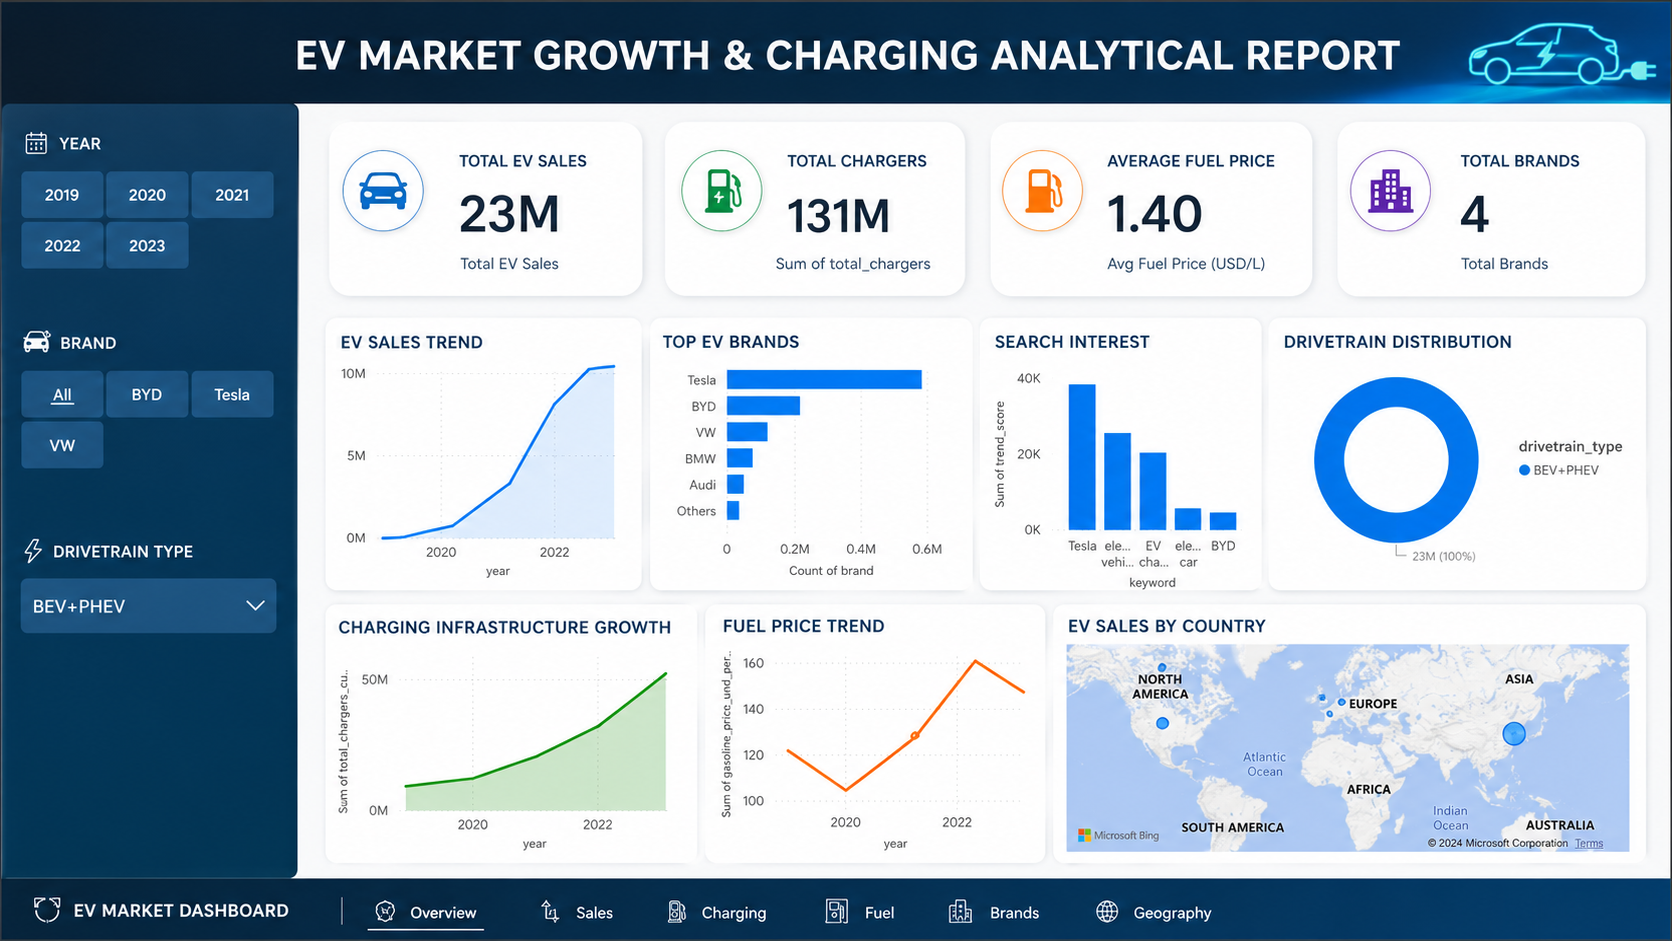

The page's visual inventory and layout, read from the dashboard file:
{"tool":"powerbi","page":{"name":"Page 1","canvas":[1280,720],"ordinal":0},"visuals":[{"type":"shape","box":[0,0,1280.5,85.6],"z":0},{"type":"shape","box":[0,85.8,309.6,634.7],"z":1000},{"type":"cardVisual","title":"Total EV Sales","fields":{"Data":["ev_charging_monthly.Total EV Sales"]},"box":[327.9,87.2,223.8,133.7],"z":2000},{"type":"cardVisual","title":"Total Chargers ","fields":{"Data":["Sum(ev_charging_monthly.total_chargers_cumulative)"]},"box":[569.9,85.8,225.2,133.7],"z":3000},{"type":"cardVisual","title":"Total Brands","fields":{"Data":["ev_market_master.Total Brands"]},"box":[1076.5,88.7,184.3,133.7],"z":4000},{"type":"cardVisual","title":"Average Fuel Price ","fields":{"Data":["fuel_prices_monthly.Avg Fuel Price"]},"box":[828.9,85.8,212.5,133.7],"z":5000},{"type":"advancedSlicerVisual","title":"Year","fields":{"Values":["ev_market_master.year"]},"box":[0,87.2,309.6,218.1],"z":6000},{"type":"advancedSlicerVisual","title":"Brand","fields":{"Values":["ev_market_master.brand"]},"box":[0,305.4,309.6,206.9],"z":7000},{"type":"advancedSlicerVisual","title":"Drivetrain_type","fields":{"Values":["ev_market_master.drivetrain_type"]},"box":[0,512.2,309.6,208.3],"z":8000},{"type":"lineChart","title":"EV Sales Trend","fields":{"Category":["ev_market_master.year"],"Y":["Sum(ev_market_master.units_sold)"]},"box":[327.9,219.5,185.8,246.3],"z":9000},{"type":"clusteredBarChart","title":"Top EV Brands","fields":{"Category":["ev_market_master.units_sold"],"Y":["CountNonNull(ev_market_master.brand)"]},"box":[513.6,220.9,198.4,246.3],"z":10000},{"type":"areaChart","title":"Charging Infrastructure Growth","fields":{"Category":["ev_charging_monthly.year"],"Y":["Sum(ev_charging_monthly.total_chargers_cumulative)"]},"box":[346.2,482.7,294.1,237.8],"z":11000},{"type":"lineChart","title":"Fuel Price Trend","fields":{"Category":["fuel_prices_monthly.year"],"Y":["Sum(fuel_prices_monthly.gasoline_price_usd_per_liter)"]},"box":[647.3,482.7,257.5,237.8],"z":12000},{"type":"lineClusteredColumnComboChart","title":"Search Interest","fields":{"Category":["ev_trends_monthly.keyword"],"Y":["Sum(ev_trends_monthly.trend_score)"]},"box":[712.1,219.5,246.3,246.3],"z":13000},{"type":"map","title":"EV Sales by Country","fields":{"Category":["ev_market_master.country"],"Size":["Sum(ev_market_master.units_sold)"]},"box":[923.1,482.7,347.6,237.8],"z":14000},{"type":"donutChart","title":"Drivetrain Distribution","fields":{"Category":["ev_market_master.drivetrain_type"],"Y":["Sum(ev_market_master.units_sold)"]},"box":[966.8,220.9,304,246.3],"z":15000}]}

Visuals, with their boxes in screenshot pixels (x1, y1, x2, y2), scaled from the page's 1280x720 canvas onto the 1672x941 screenshot:
shape: BBox(0, 0, 1671, 112)
shape: BBox(0, 112, 404, 940)
"Total EV Sales" cardVisual: BBox(428, 114, 721, 289)
"Total Chargers " cardVisual: BBox(744, 112, 1039, 287)
"Total Brands" cardVisual: BBox(1406, 116, 1647, 291)
"Average Fuel Price " cardVisual: BBox(1083, 112, 1360, 287)
"Year" advancedSlicerVisual: BBox(0, 114, 404, 399)
"Brand" advancedSlicerVisual: BBox(0, 399, 404, 670)
"Drivetrain_type" advancedSlicerVisual: BBox(0, 669, 404, 940)
"EV Sales Trend" lineChart: BBox(428, 287, 671, 609)
"Top EV Brands" clusteredBarChart: BBox(671, 289, 930, 611)
"Charging Infrastructure Growth" areaChart: BBox(452, 631, 836, 940)
"Fuel Price Trend" lineChart: BBox(846, 631, 1182, 940)
"Search Interest" lineClusteredColumnComboChart: BBox(930, 287, 1252, 609)
"EV Sales by Country" map: BBox(1206, 631, 1660, 940)
"Drivetrain Distribution" donutChart: BBox(1263, 289, 1660, 611)
